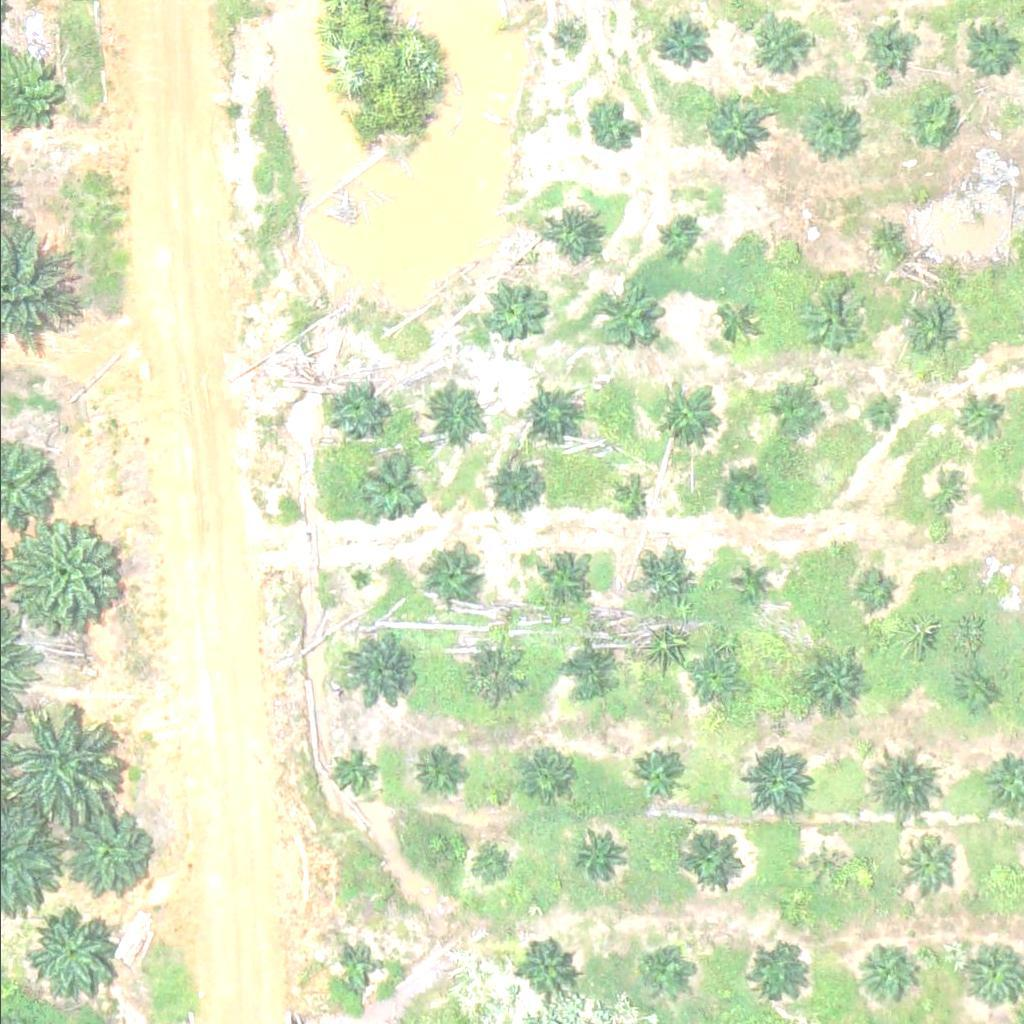Kelapa_Sawit: (8, 512, 122, 625), (56, 810, 144, 897), (30, 908, 118, 995), (803, 284, 879, 359), (341, 631, 417, 706), (354, 445, 430, 520), (861, 743, 936, 818), (747, 745, 822, 820), (637, 544, 700, 607), (596, 281, 659, 344), (675, 825, 738, 888), (568, 830, 631, 893), (419, 378, 482, 441), (487, 277, 550, 340), (418, 545, 481, 608), (322, 377, 385, 440), (509, 936, 572, 999), (655, 380, 718, 442), (707, 97, 770, 159), (799, 648, 862, 710), (744, 15, 807, 77), (899, 295, 962, 357), (797, 94, 860, 156), (745, 943, 808, 1005), (850, 945, 913, 1007), (896, 835, 959, 897), (459, 644, 522, 706), (542, 200, 605, 262), (518, 385, 580, 447), (490, 452, 552, 514), (684, 650, 735, 700), (633, 745, 684, 795), (520, 749, 571, 799), (329, 943, 380, 993), (462, 842, 513, 892), (563, 645, 613, 695), (653, 19, 703, 69), (586, 100, 636, 150), (869, 26, 919, 76), (965, 25, 1015, 75), (762, 379, 812, 429), (909, 92, 959, 142), (640, 944, 690, 994), (410, 744, 460, 794), (540, 549, 590, 599), (329, 750, 379, 800), (715, 465, 765, 515), (706, 296, 756, 346), (649, 211, 699, 261), (866, 219, 916, 269), (953, 391, 1003, 441), (606, 481, 644, 519), (863, 394, 901, 432), (969, 569, 1007, 607), (927, 475, 965, 513), (953, 674, 991, 711), (804, 849, 842, 886), (731, 560, 769, 597), (856, 574, 893, 612), (558, 25, 583, 50), (781, 235, 806, 260)
